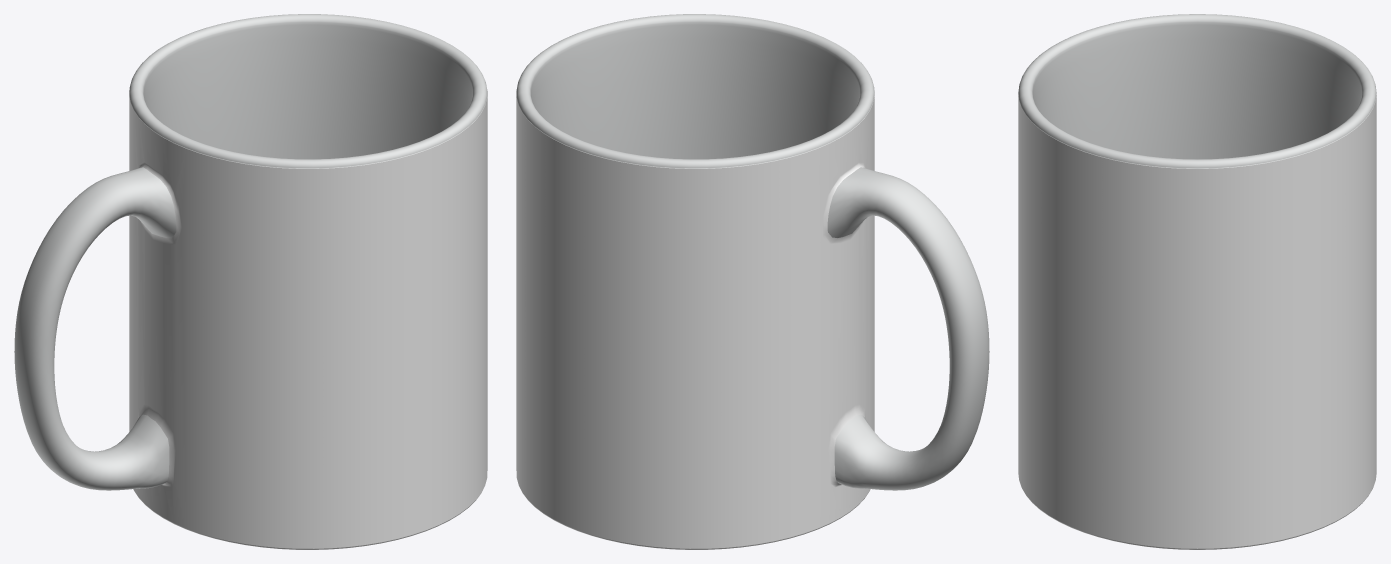
Rendered from cup.glb.
3 views of the same model, side by side, from view 1: azimuth 30°, elevation 25°; view 2: azimuth 150°, elevation 25°; view 3: azimuth 270°, elevation 25° (orthographic).
Visible parts, largest first — view 1: 11oz-Mug; view 2: 11oz-Mug; view 3: 11oz-Mug.
Part boxes in pixels (x1,y1,x2,y2): 11oz-Mug: (14,14,487,549); 11oz-Mug: (516,14,989,549); 11oz-Mug: (1018,14,1376,549).
Size of the model in its own units: 0.0882 by 0.0737 by 0.0618.
Materials: 3 (1 with a texture image).
